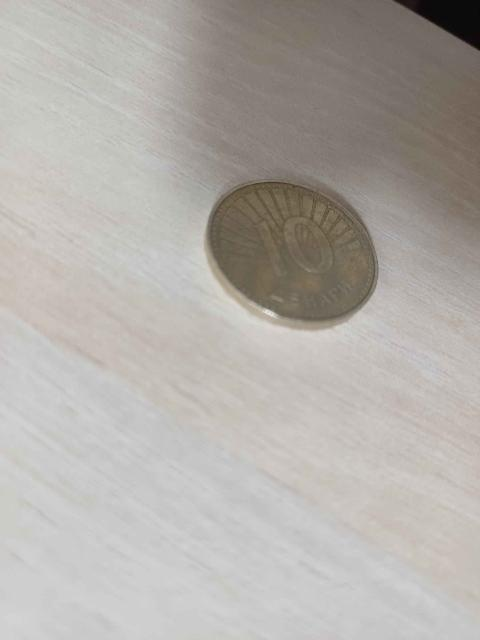10_coin: (207, 182, 377, 327)
